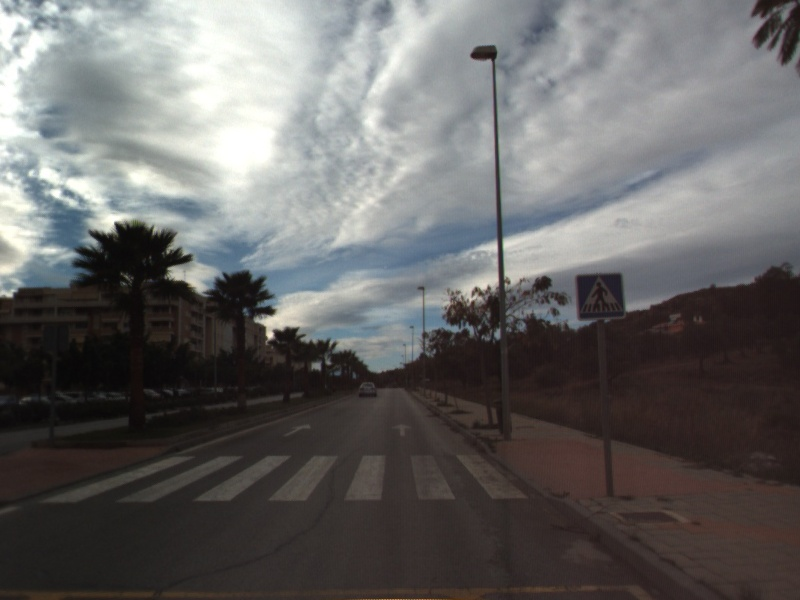STRAIGHT: (281, 421, 313, 438), (390, 422, 414, 438)
